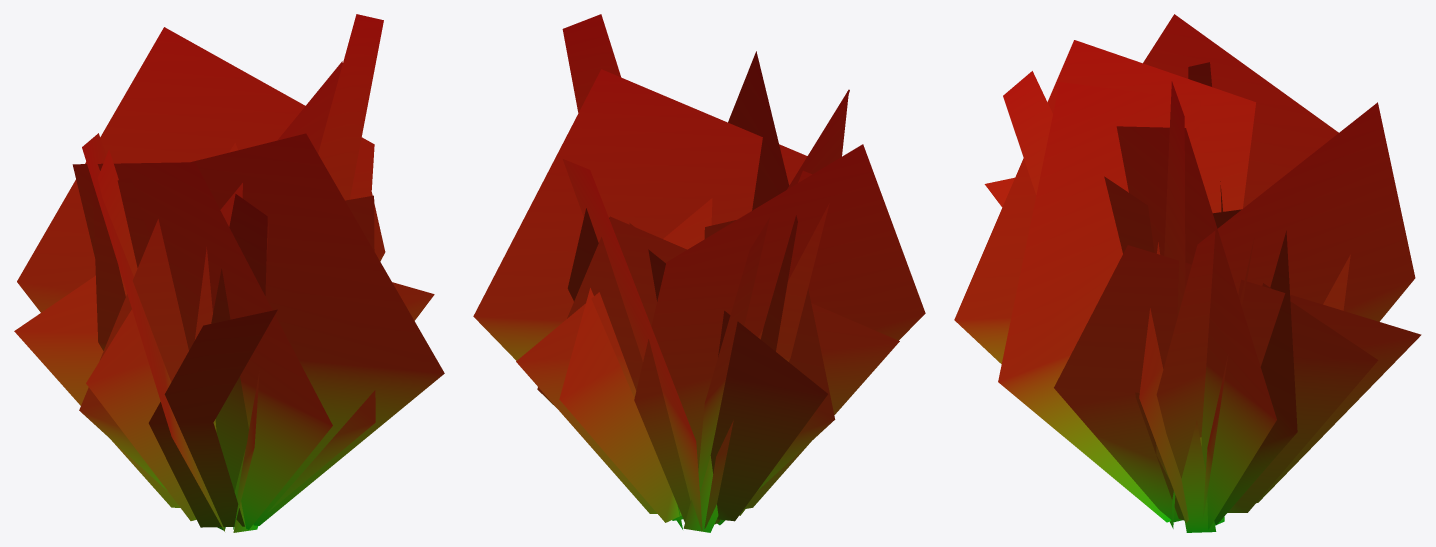
Rendered from Leafy Nineawn_LOD1_Var5_tlijciuia.fbx.
The picture shows the model from 3 angles, left to right: view 1: azimuth 30°, elevation 25°; view 2: azimuth 150°, elevation 25°; view 3: azimuth 270°, elevation 25°; orthographic projection. The views are drawn at different scales.
Visible parts, largest first — view 1: _64a6_Var5_LOD1; view 2: _64a6_Var5_LOD1; view 3: _64a6_Var5_LOD1.
Part boxes in pixels (x1,y1,x2,y2): _64a6_Var5_LOD1: (14,14,444,532); _64a6_Var5_LOD1: (473,14,925,532); _64a6_Var5_LOD1: (954,14,1421,532).
Size of the model in its own units: 6.2 by 7.84 by 6.68.
